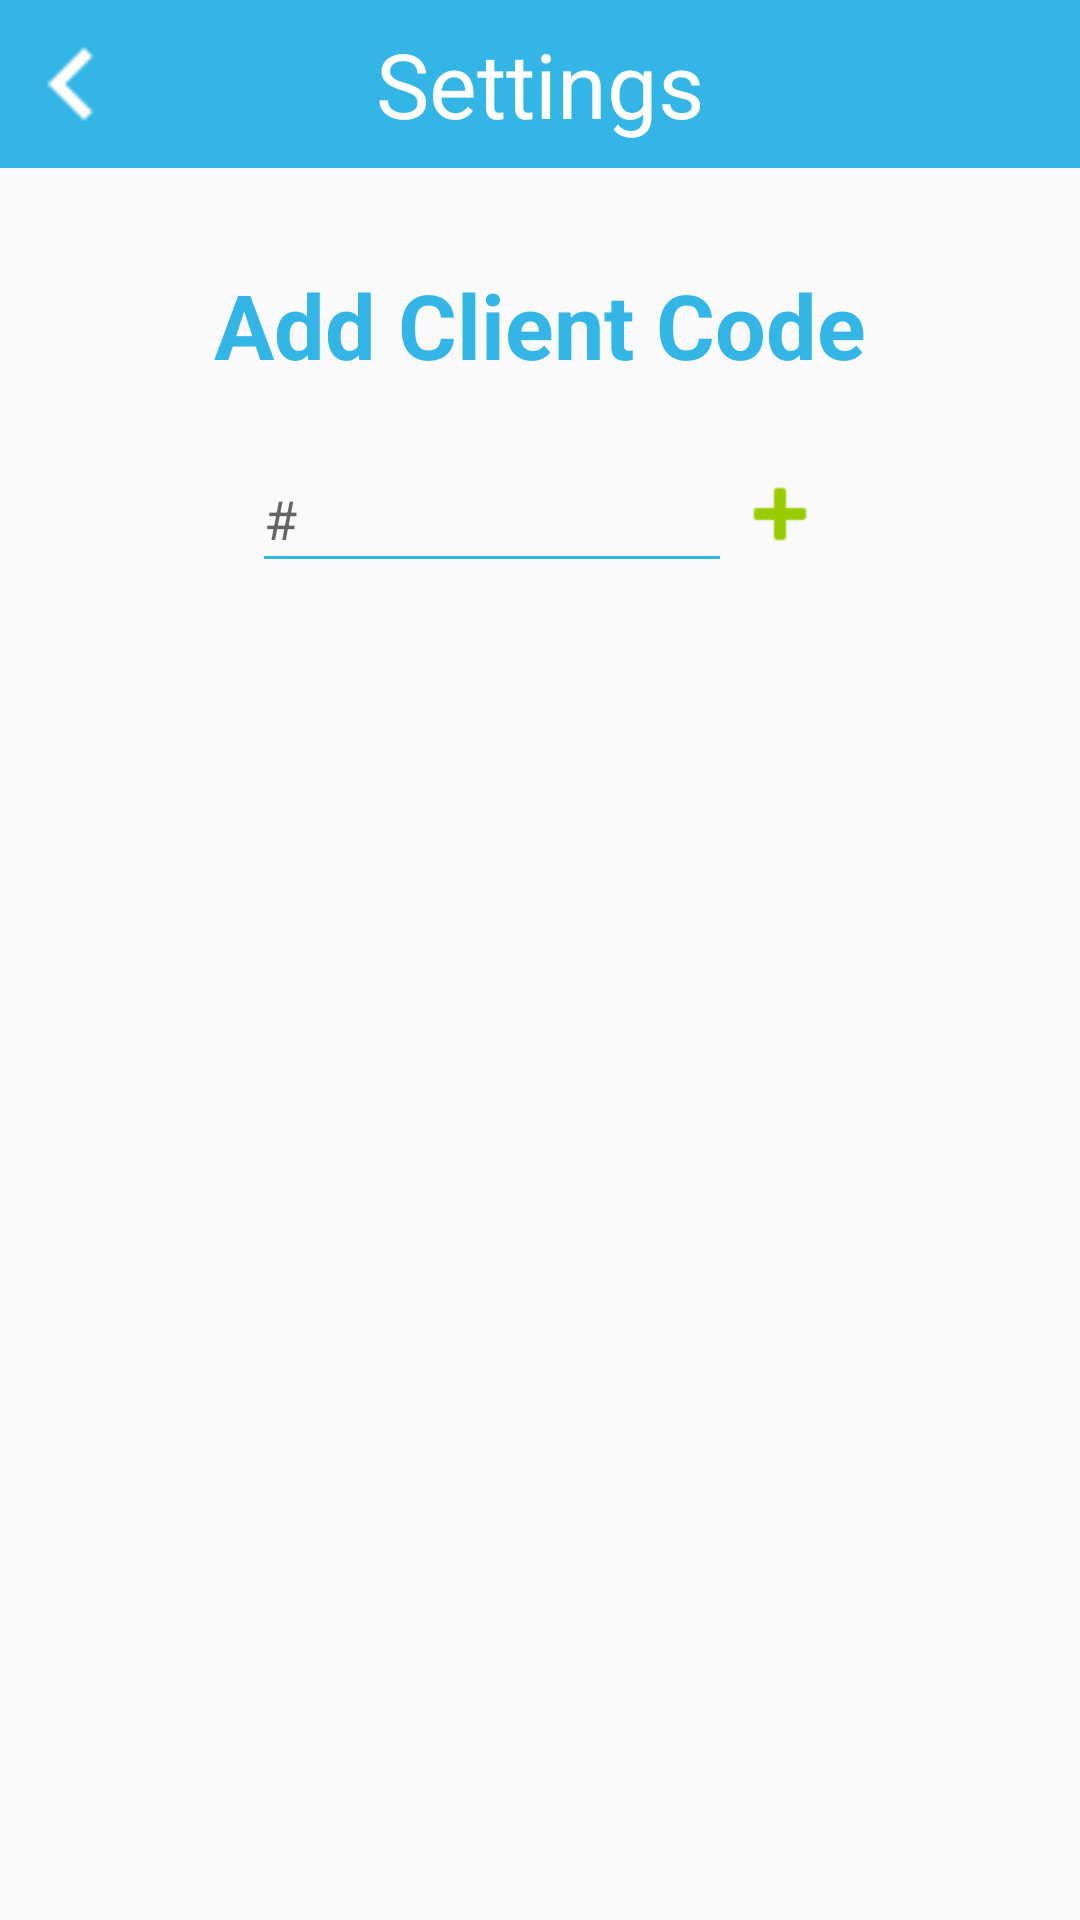

Icon click points for this 1080w x 1920h phone screenshot, format [x,y]:
Back to ClientForTrainer: [70,84]
